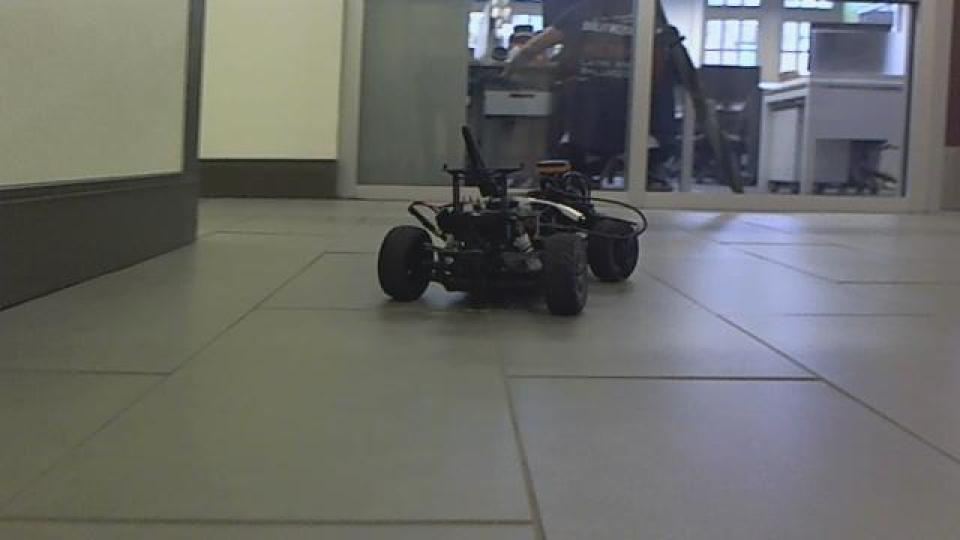car: (372, 123, 648, 319)
